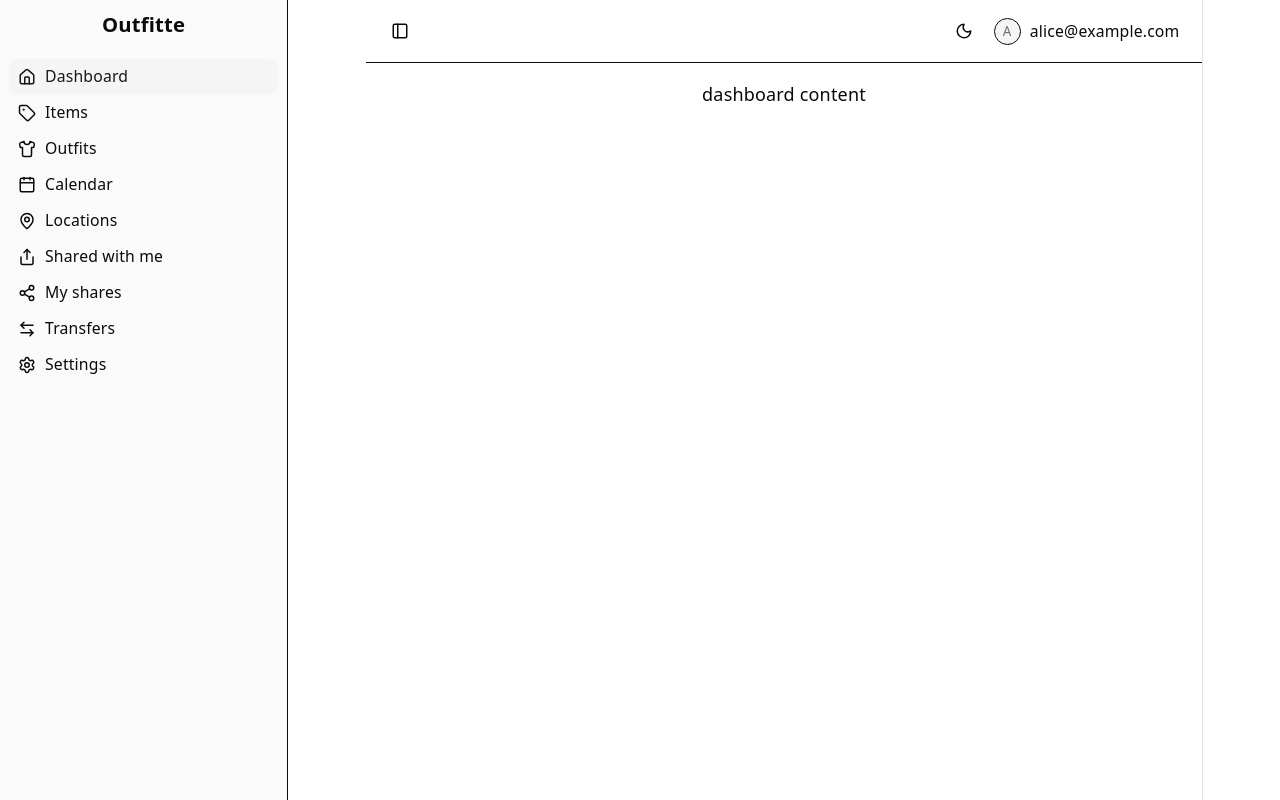
Test case: AppLayout › AppLayout should navigate to /items when Items link is clicked
This screenshot has width=1280, height=800.
What coordinates should you click on to do the following:
click the link "Items"
I would click on:
 (53, 112)
Its box is left=18, top=101, right=88, bottom=123.
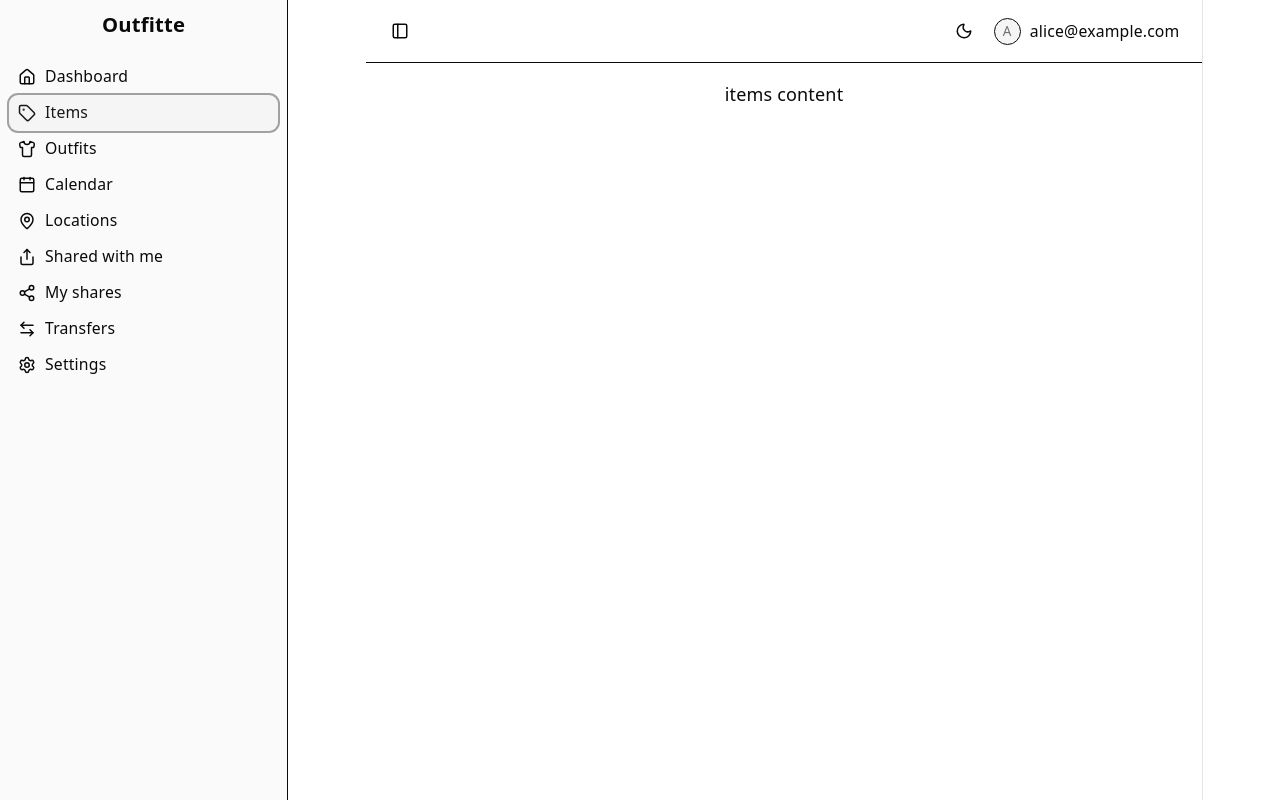
Expected: the text "items content" is shown, left=725, top=82, right=843, bottom=106
